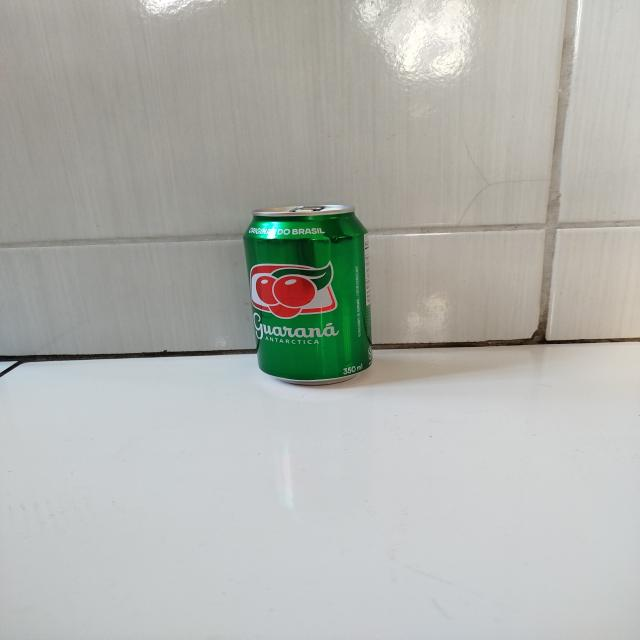Guarana: (240, 207, 380, 386)
